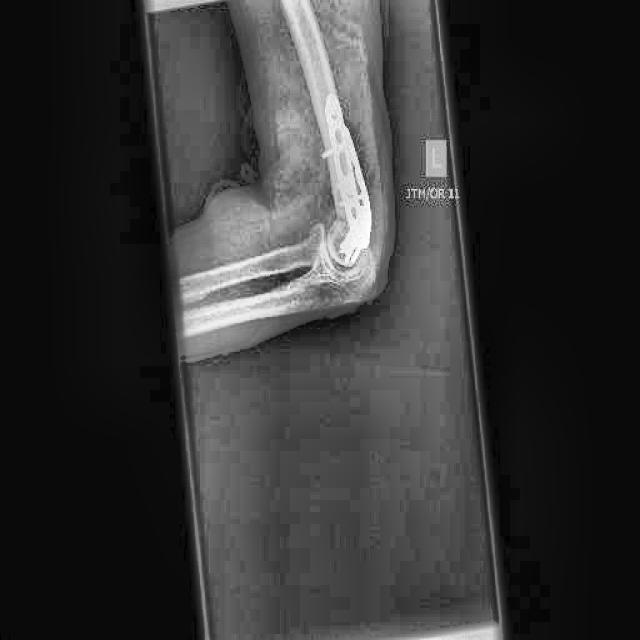elbow positive: (326, 174, 373, 253)
